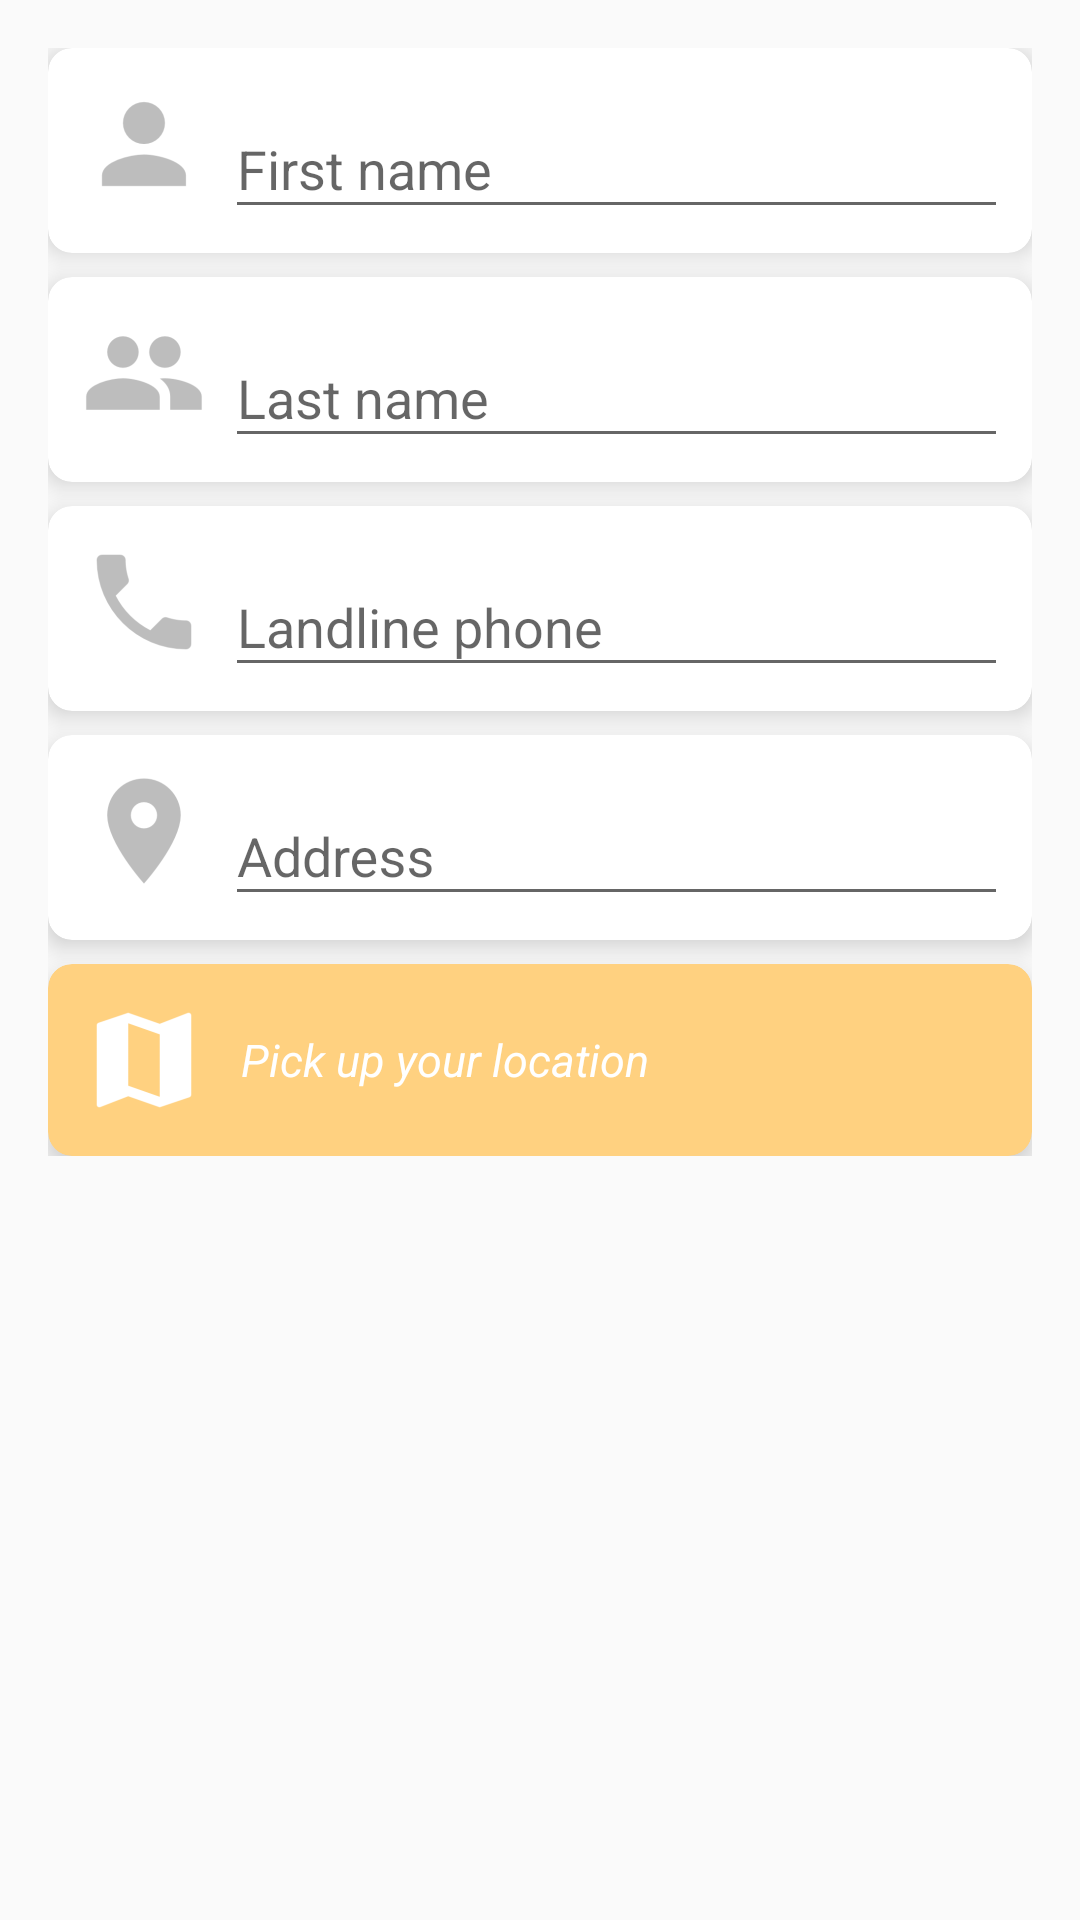

Named icons in this screenshot (1080x1920) and their bounding boxes, (x1, y1, x2, y2):
account: (102, 102, 186, 186)
family: (86, 336, 202, 410)
map: (96, 1012, 192, 1108)
